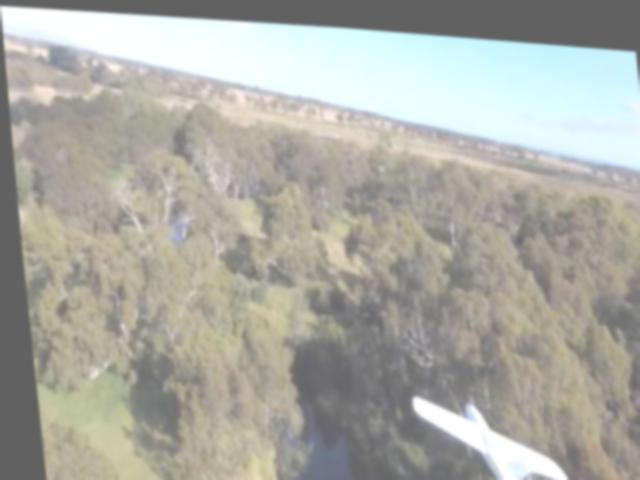uav: (402, 387, 565, 480)
